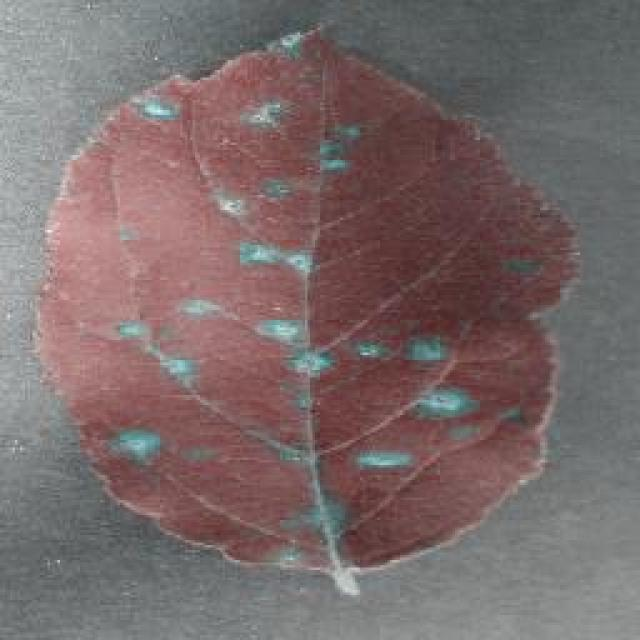apple rust disease: (32, 20, 582, 588)
